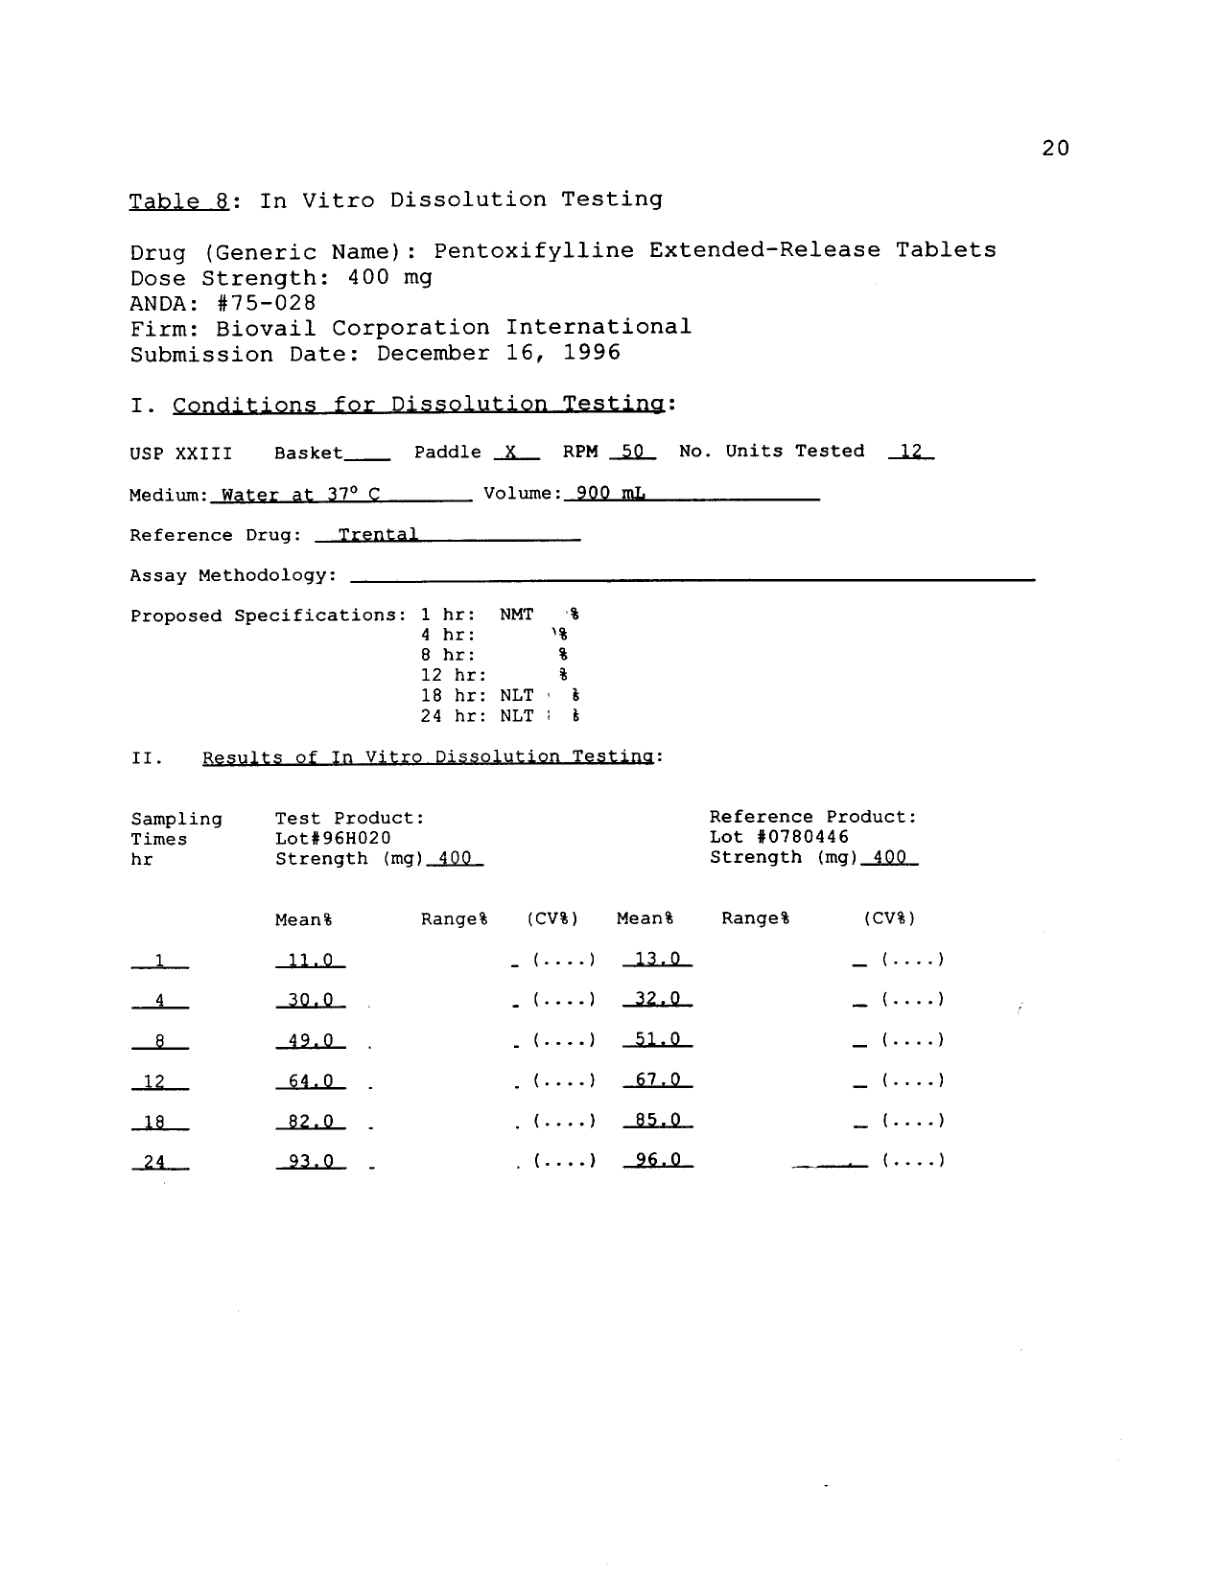nolines: (127, 808, 948, 1174)
